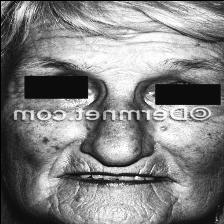Unclassified: (141, 124, 177, 138), (32, 132, 60, 150)
